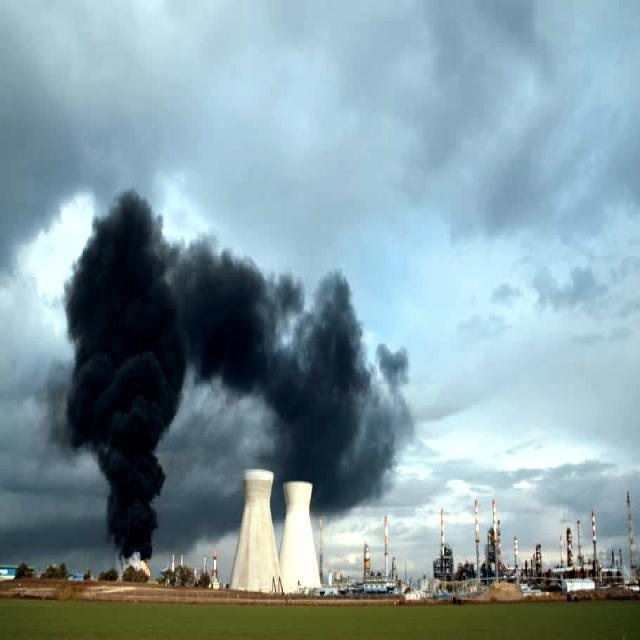Smoke: (49, 204, 216, 544), (235, 258, 398, 516)
